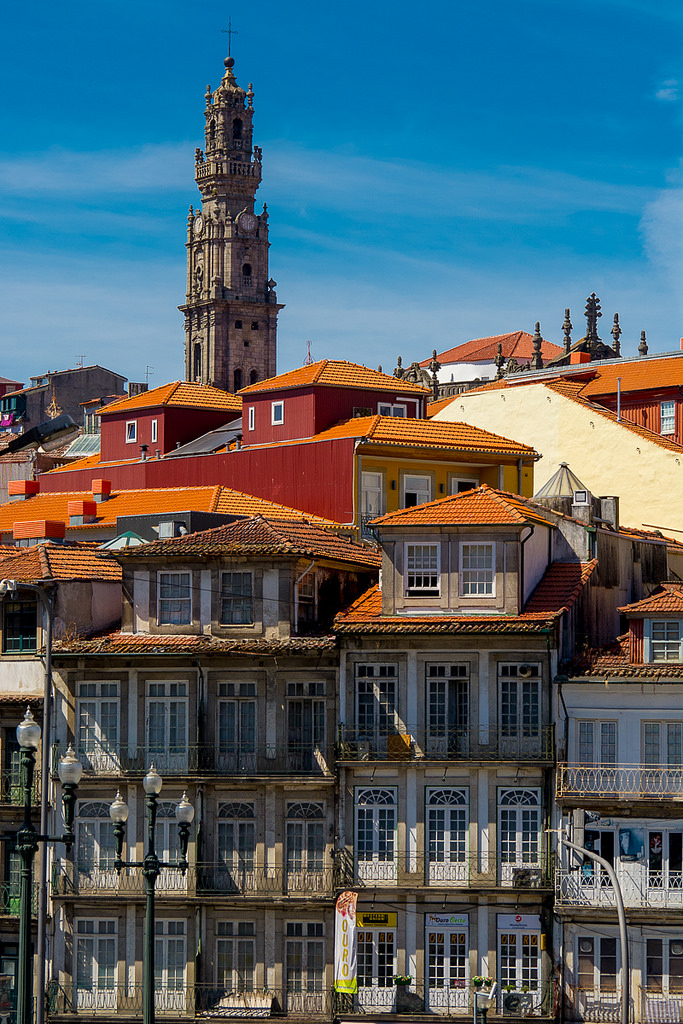clerigos: (176, 8, 285, 395)
